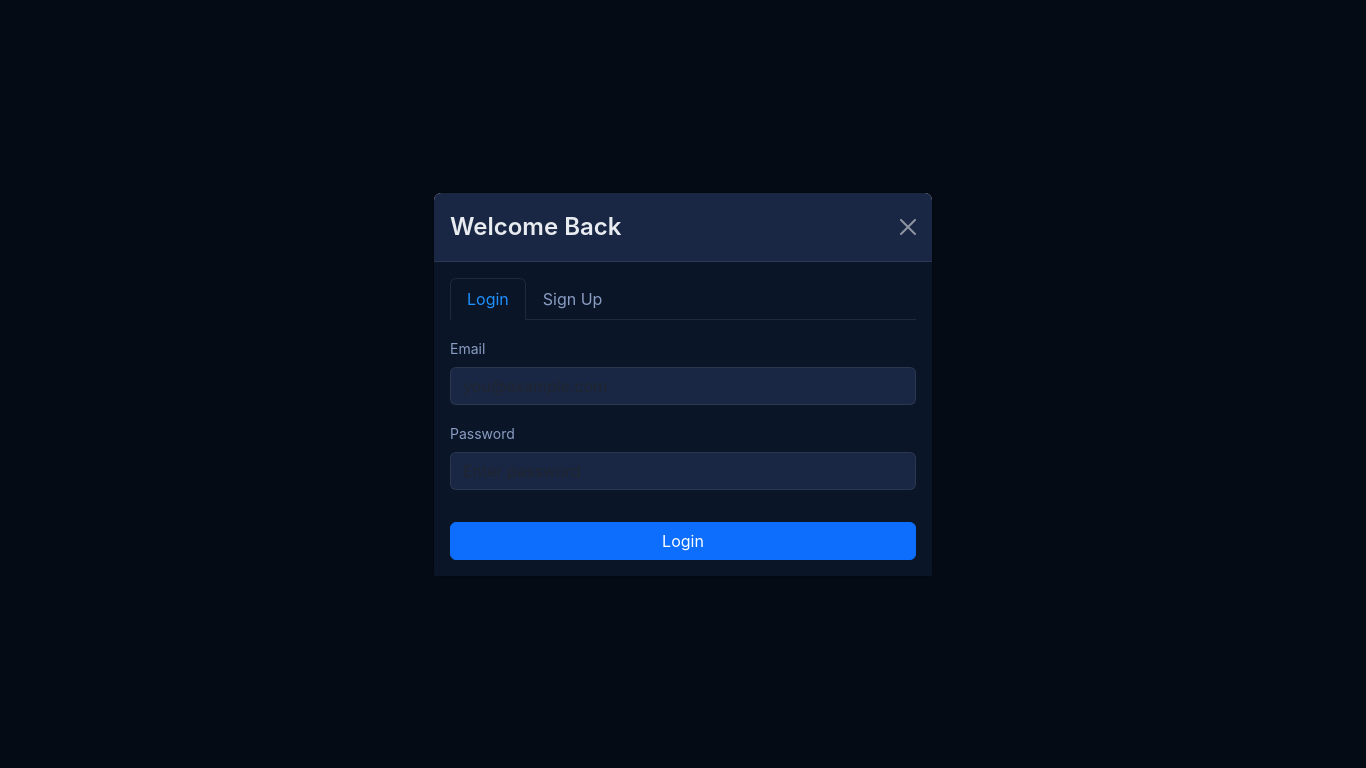
Test case: AuthModal › switches to signup form when Sign Up tab clicked
This screenshot has width=1366, height=768.
Click the button "Sign Up".
click(573, 298)  # box 543,288 -> 602,308
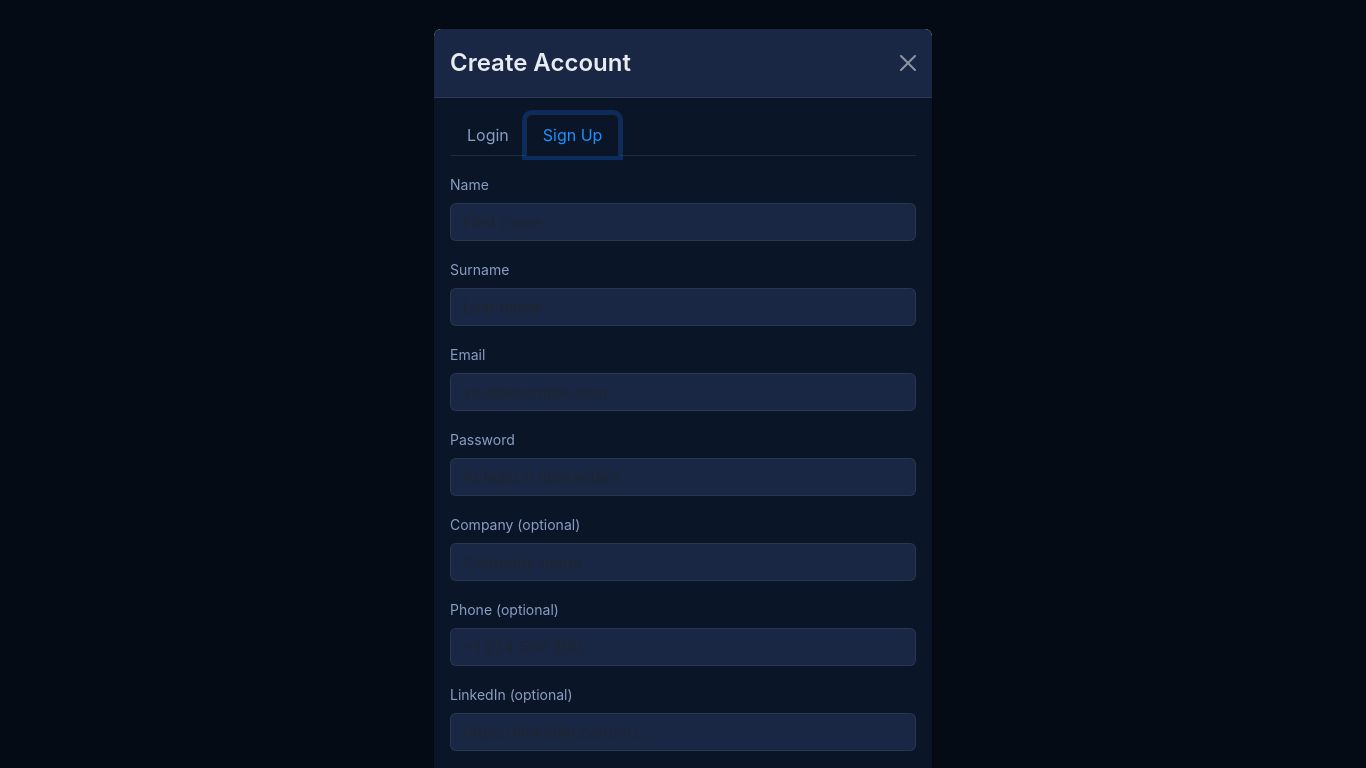
Expected: the text "Create Account" is shown, 450,45 -> 631,81
Expected: the field labelled "Name" is shown, 450,203 -> 916,241
Expected: the field labelled "Surname" is shown, 450,288 -> 916,326
